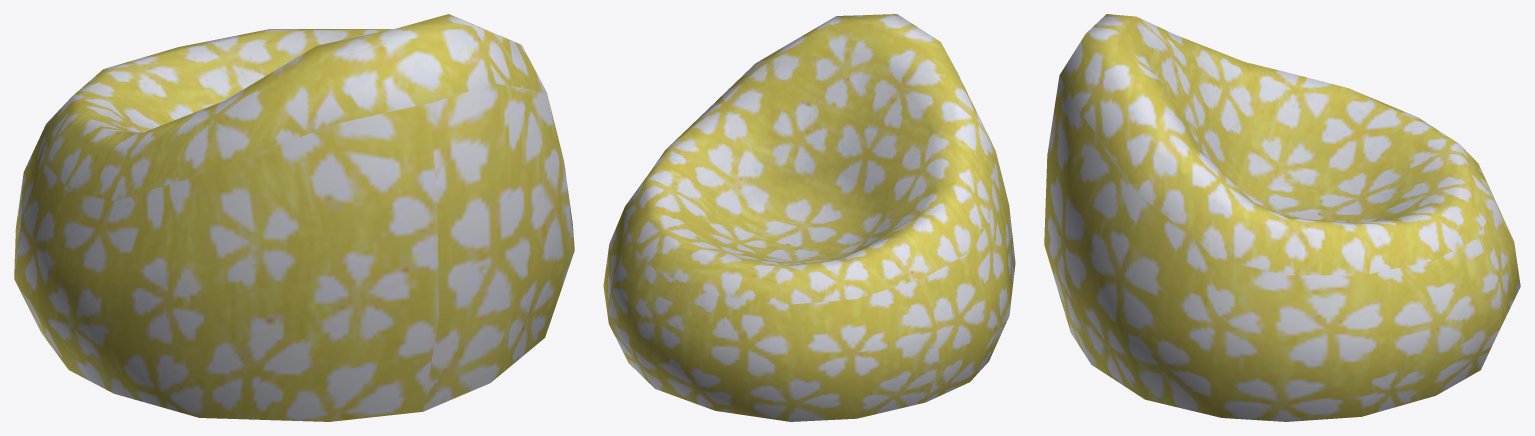
File: furni_0200428.FBX
3 views of the same model, side by side, from view 1: azimuth 30°, elevation 25°; view 2: azimuth 150°, elevation 25°; view 3: azimuth 270°, elevation 25° (orthographic). The views are drawn at different scales.
Parts seen in each view (by area): view 1: furni_0200428; view 2: furni_0200428; view 3: furni_0200428.
Part boxes in pixels (bbox=[...]): furni_0200428: bbox=[14, 14, 574, 421]; furni_0200428: bbox=[603, 14, 1015, 421]; furni_0200428: bbox=[1044, 14, 1520, 421].
Size of the model in its own units: 81.83 by 57.43 by 82.98.
